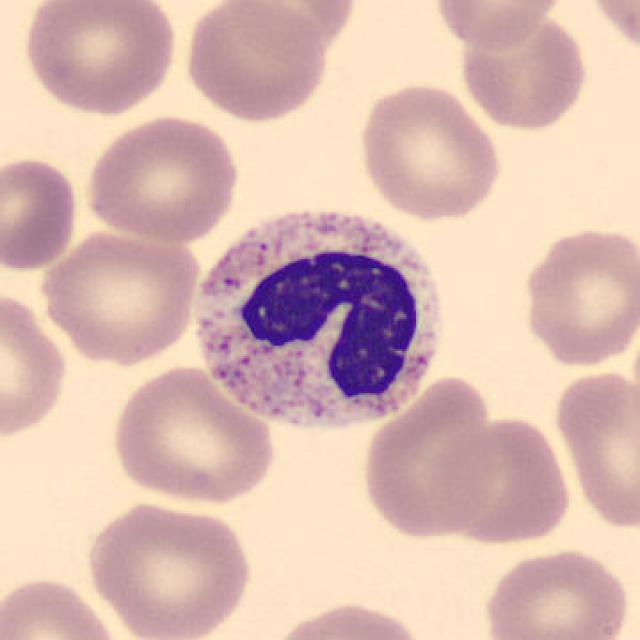Neutrophil: (183, 192, 455, 446)
RBC: (357, 372, 503, 543), (82, 497, 256, 640), (107, 363, 279, 506), (36, 224, 202, 367), (352, 79, 505, 222), (82, 111, 244, 243), (428, 411, 576, 548), (18, 0, 180, 118), (180, 0, 332, 125), (518, 222, 638, 370), (455, 5, 592, 134), (478, 545, 633, 640), (550, 365, 638, 531), (0, 286, 71, 442), (0, 152, 82, 273), (0, 571, 126, 640), (226, 0, 361, 55), (263, 597, 430, 640), (430, 0, 567, 51), (583, 0, 640, 58)
